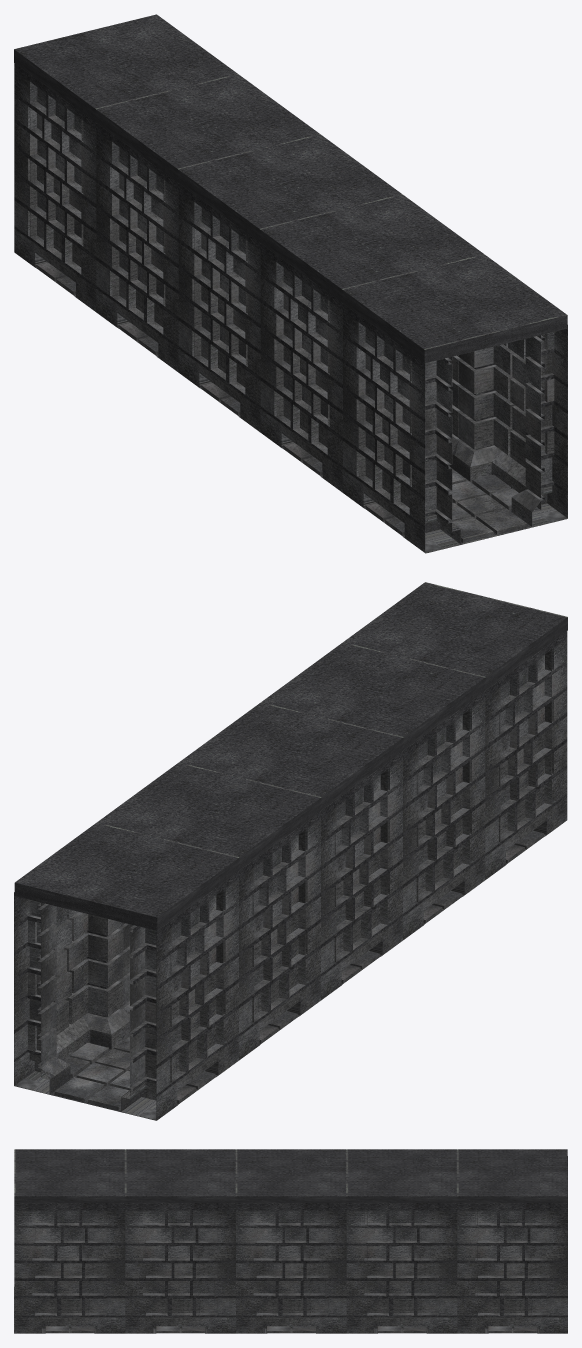
The model's file is level(I).obj.
3 views of the same model, one above another, from view 1: azimuth 30°, elevation 25°; view 2: azimuth 150°, elevation 25°; view 3: azimuth 270°, elevation 25° (orthographic). The views are drawn at different scales.
Parts seen in each view (by area): view 1: Sol.002_Plane.080, Sol.003_Plane.081, Sol.004_Plane.082, Sol.001_Plane.078, Sol.009_Plane.087; view 2: Sol.009_Plane.087, Sol.001_Plane.078, Sol.003_Plane.081, Sol.002_Plane.080, Sol.004_Plane.082; view 3: Sol.002_Plane.080, Sol.001_Plane.078, Sol.004_Plane.082, Sol.009_Plane.087, Sol.003_Plane.081.
Boxes of the visible parts, bbox=[...] form: Sol.002_Plane.080: bbox=[342, 255, 567, 553]; Sol.003_Plane.081: bbox=[260, 195, 484, 492]; Sol.004_Plane.082: bbox=[178, 134, 402, 432]; Sol.001_Plane.078: bbox=[96, 74, 320, 372]; Sol.009_Plane.087: bbox=[14, 14, 238, 312]; Sol.009_Plane.087: bbox=[14, 822, 239, 1120]; Sol.001_Plane.078: bbox=[97, 762, 321, 1060]; Sol.003_Plane.081: bbox=[261, 642, 485, 940]; Sol.002_Plane.080: bbox=[343, 582, 567, 879]; Sol.004_Plane.082: bbox=[179, 702, 403, 1000]; Sol.002_Plane.080: bbox=[14, 1149, 125, 1333]; Sol.001_Plane.078: bbox=[346, 1149, 457, 1333]; Sol.004_Plane.082: bbox=[235, 1149, 346, 1333]; Sol.009_Plane.087: bbox=[457, 1149, 567, 1333]; Sol.003_Plane.081: bbox=[125, 1149, 235, 1333].
Size of the model in its own units: 5.98 by 8.13 by 29.72.
